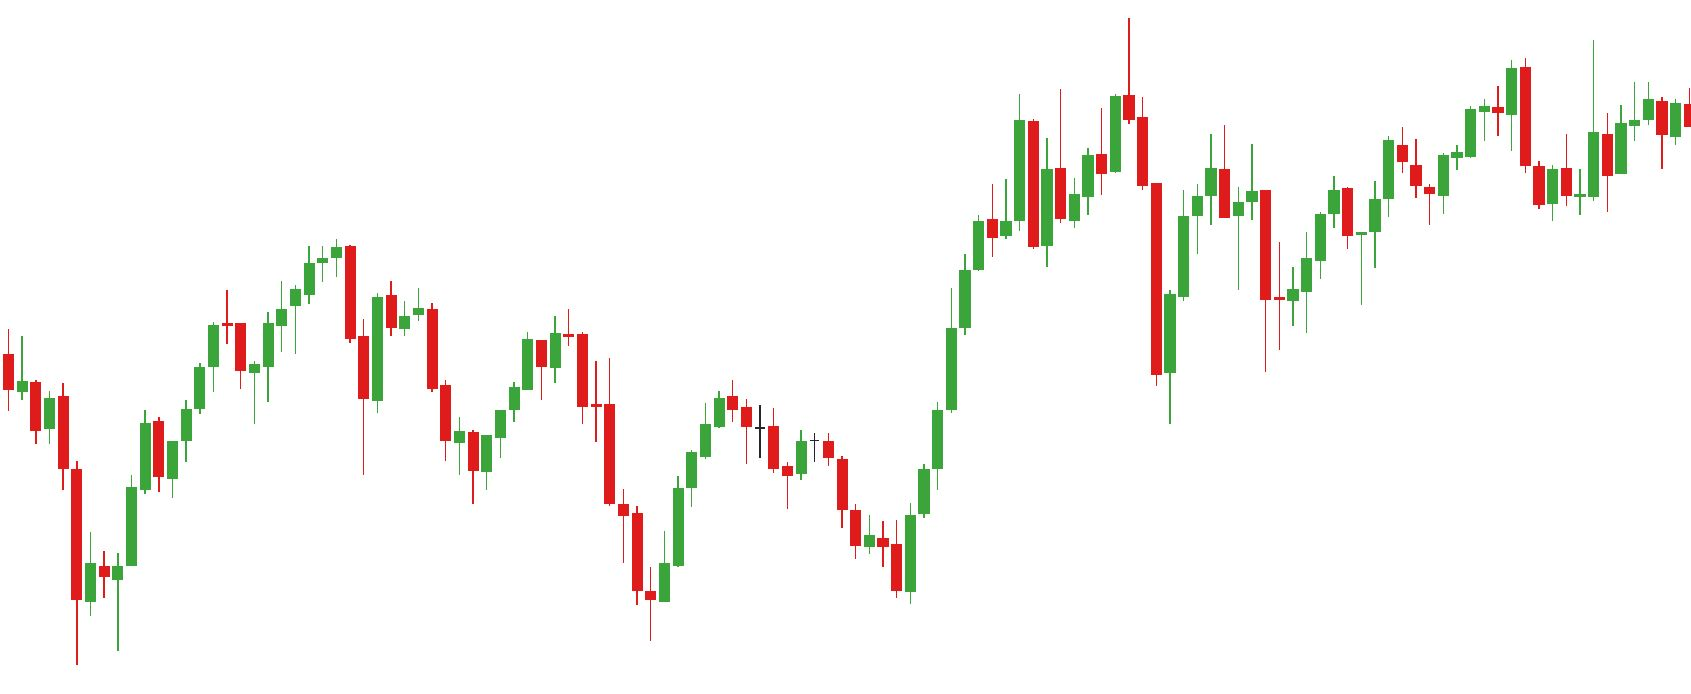sell: (1056, 16, 1136, 199)
